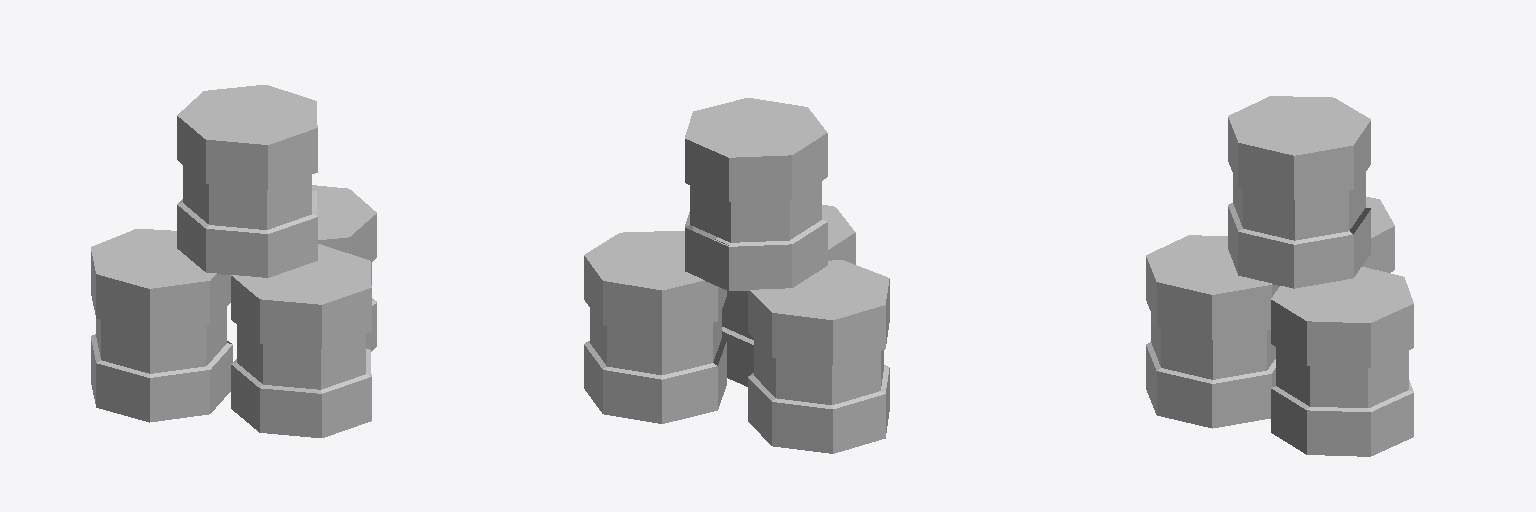
Rendered from Bidones.obj.
3 renders of one model, left to right at view 1: azimuth 30°, elevation 25°; view 2: azimuth 150°, elevation 25°; view 3: azimuth 270°, elevation 25°, orthographic.
Visible parts, largest first — view 1: Cylinder.002; view 2: Cylinder.002; view 3: Cylinder.002.
Boxes of the visible parts, <box> form: Cylinder.002: <box>91,85,376,437</box>; Cylinder.002: <box>584,98,889,453</box>; Cylinder.002: <box>1146,96,1413,456</box>.
Size of the model in its own units: 1.93 by 1.77 by 1.61.